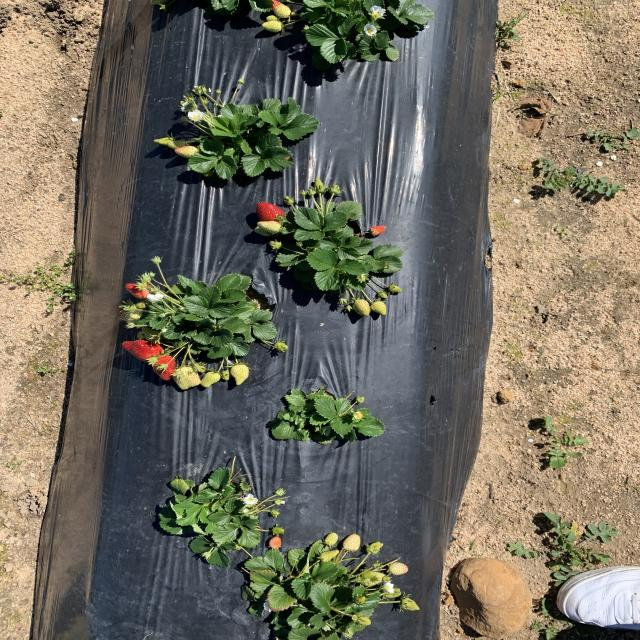unripe: (122, 340, 166, 361), (253, 201, 286, 224), (153, 357, 177, 382), (126, 283, 152, 298)
